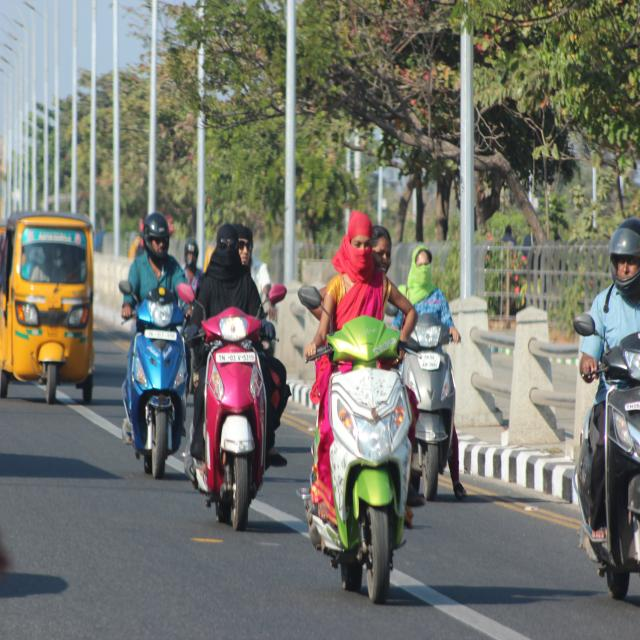accident: (574, 219, 640, 600)
autorickshaw: (0, 212, 94, 403)
motorcycle: (299, 212, 419, 604), (179, 225, 289, 531), (121, 212, 189, 478), (400, 244, 466, 506)
